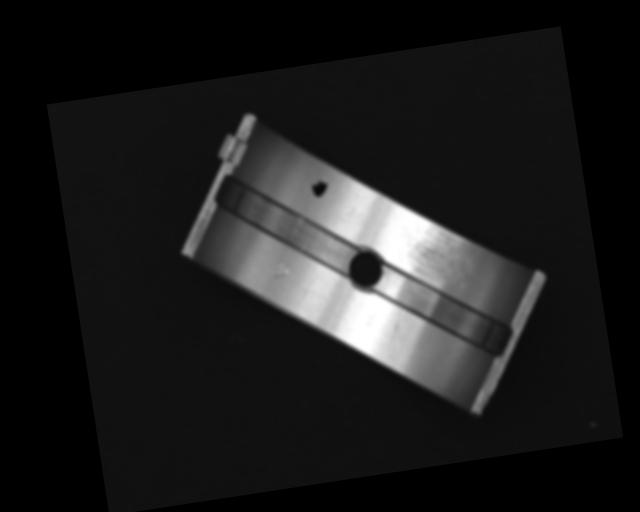blot: (309, 177, 330, 198)
bruise: (270, 262, 290, 280)
gap: (217, 162, 359, 288), (377, 257, 516, 373)
hole: (343, 246, 388, 292)
nick: (384, 306, 406, 351), (293, 277, 319, 304)
scratch: (396, 213, 478, 288)
